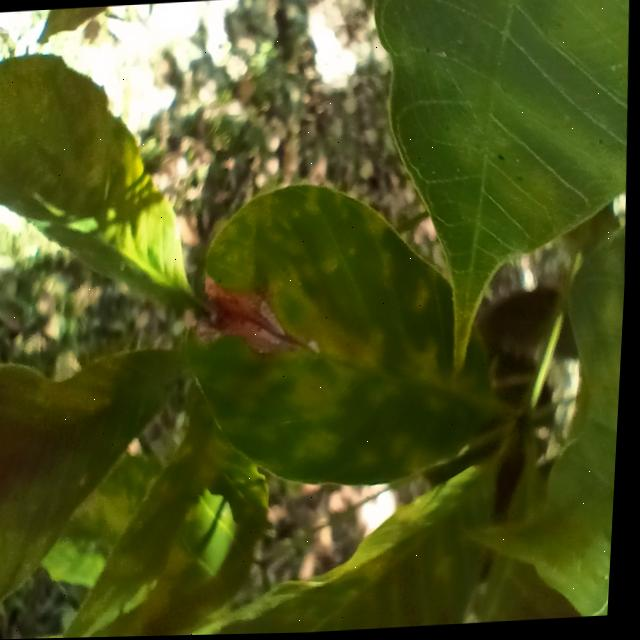Leaf-Blight: (195, 271, 295, 356)
